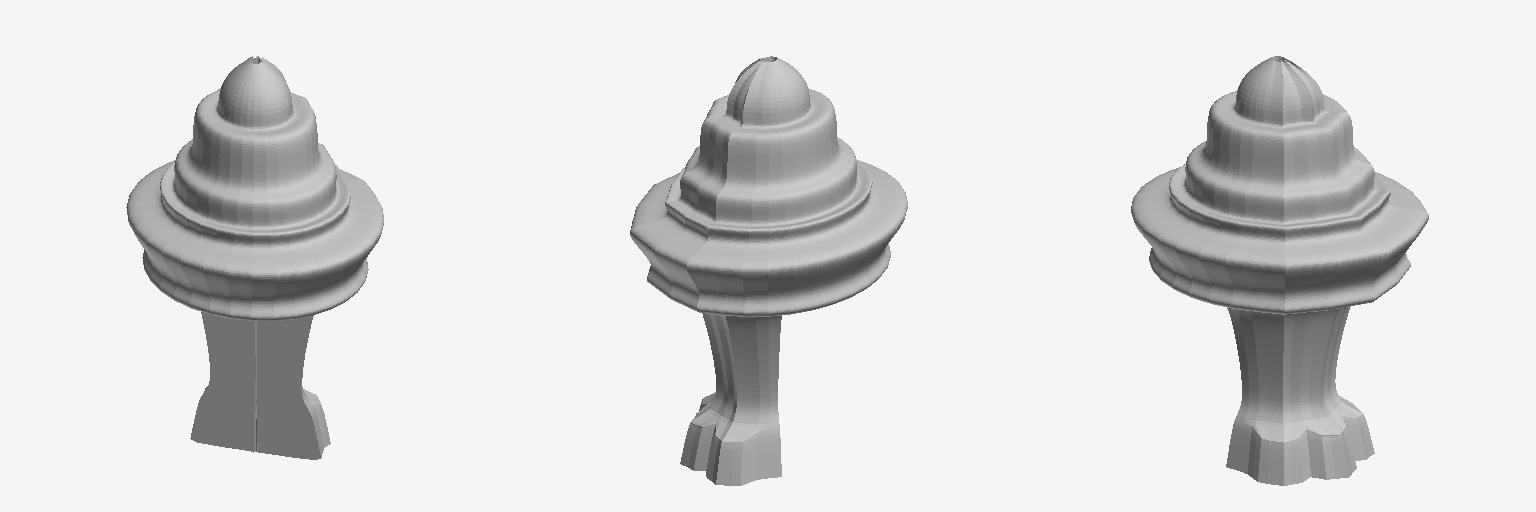
File: tube_foot1.obj
3 renders of one model, left to right at view 1: azimuth 30°, elevation 25°; view 2: azimuth 150°, elevation 25°; view 3: azimuth 270°, elevation 25°, orthographic.
Visible parts, largest first — view 1: Line002; view 2: Line002; view 3: Line002.
Part boxes in pixels (x1,y1,x2,y2): Line002: (126, 56, 383, 459); Line002: (630, 56, 907, 485); Line002: (1131, 56, 1428, 485).
Bounding box in the file's own units: 43.54 × 72.47 × 49.96.